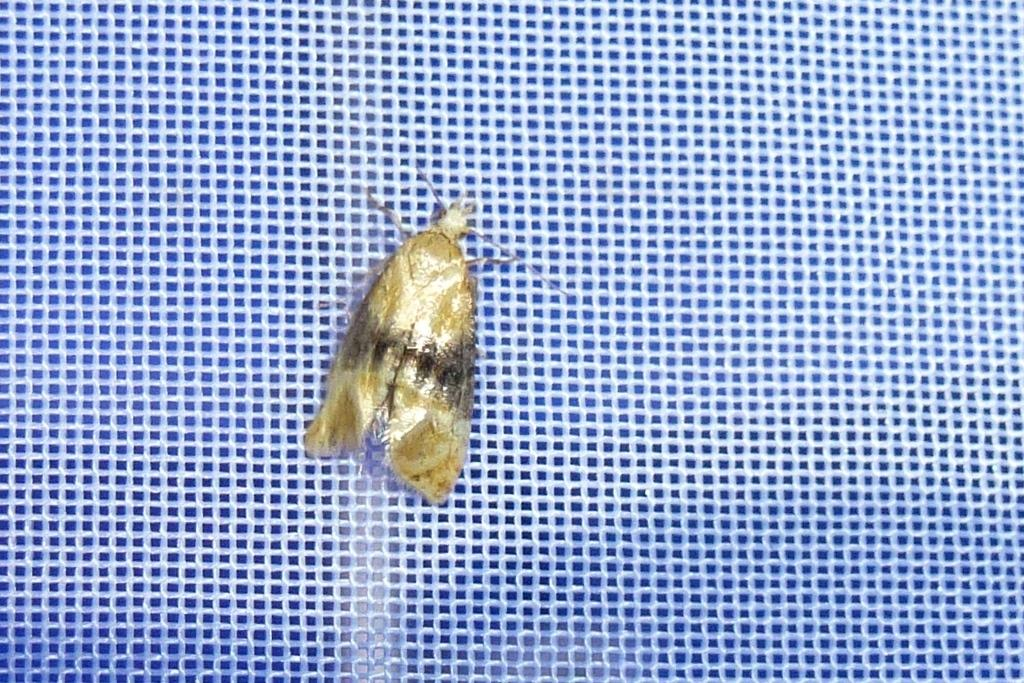Eupoecilia Ambiguella: (299, 163, 572, 509)
